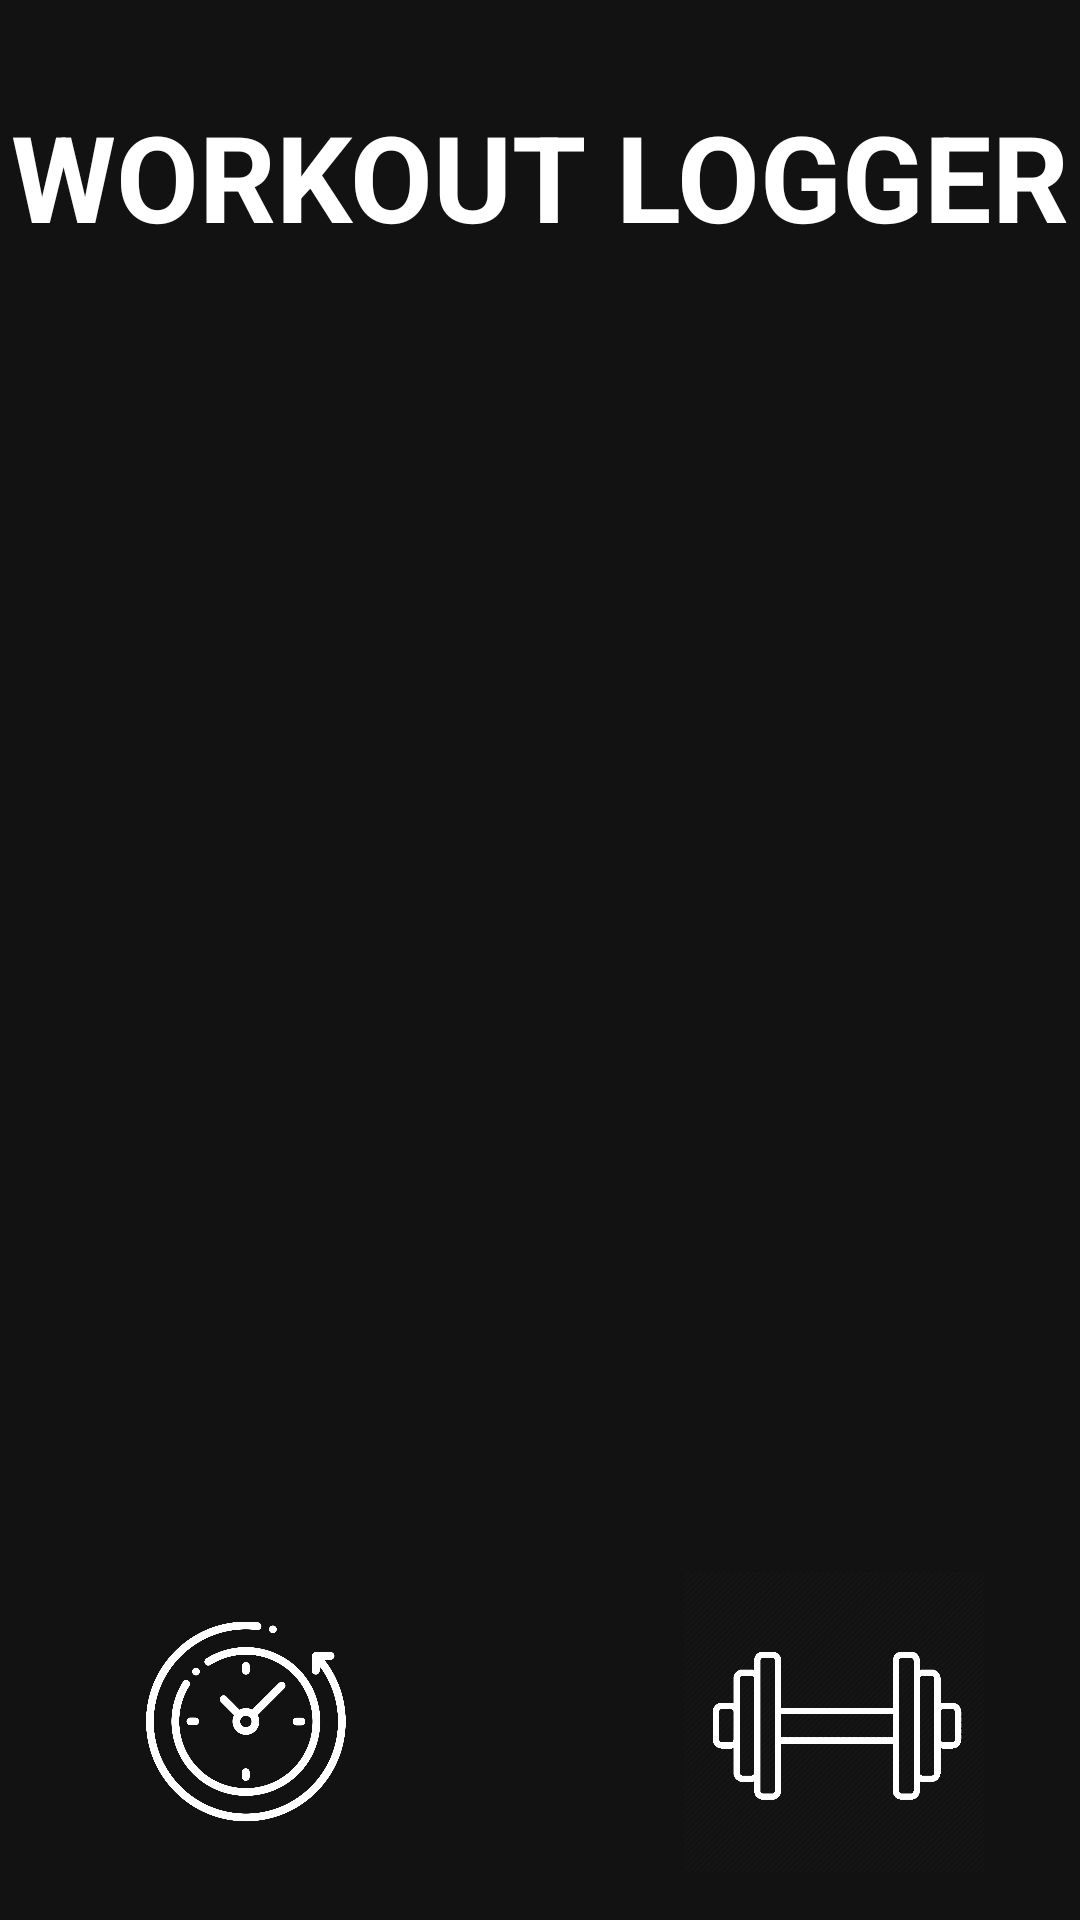

Named icons in this screenshot (1080 × 1920) and their bounding boxes, bbox=(x1, y1, x2, y2):
Clock Icon: bbox=(146, 1622, 346, 1821)
Weights Icon: bbox=(713, 1652, 962, 1800)
